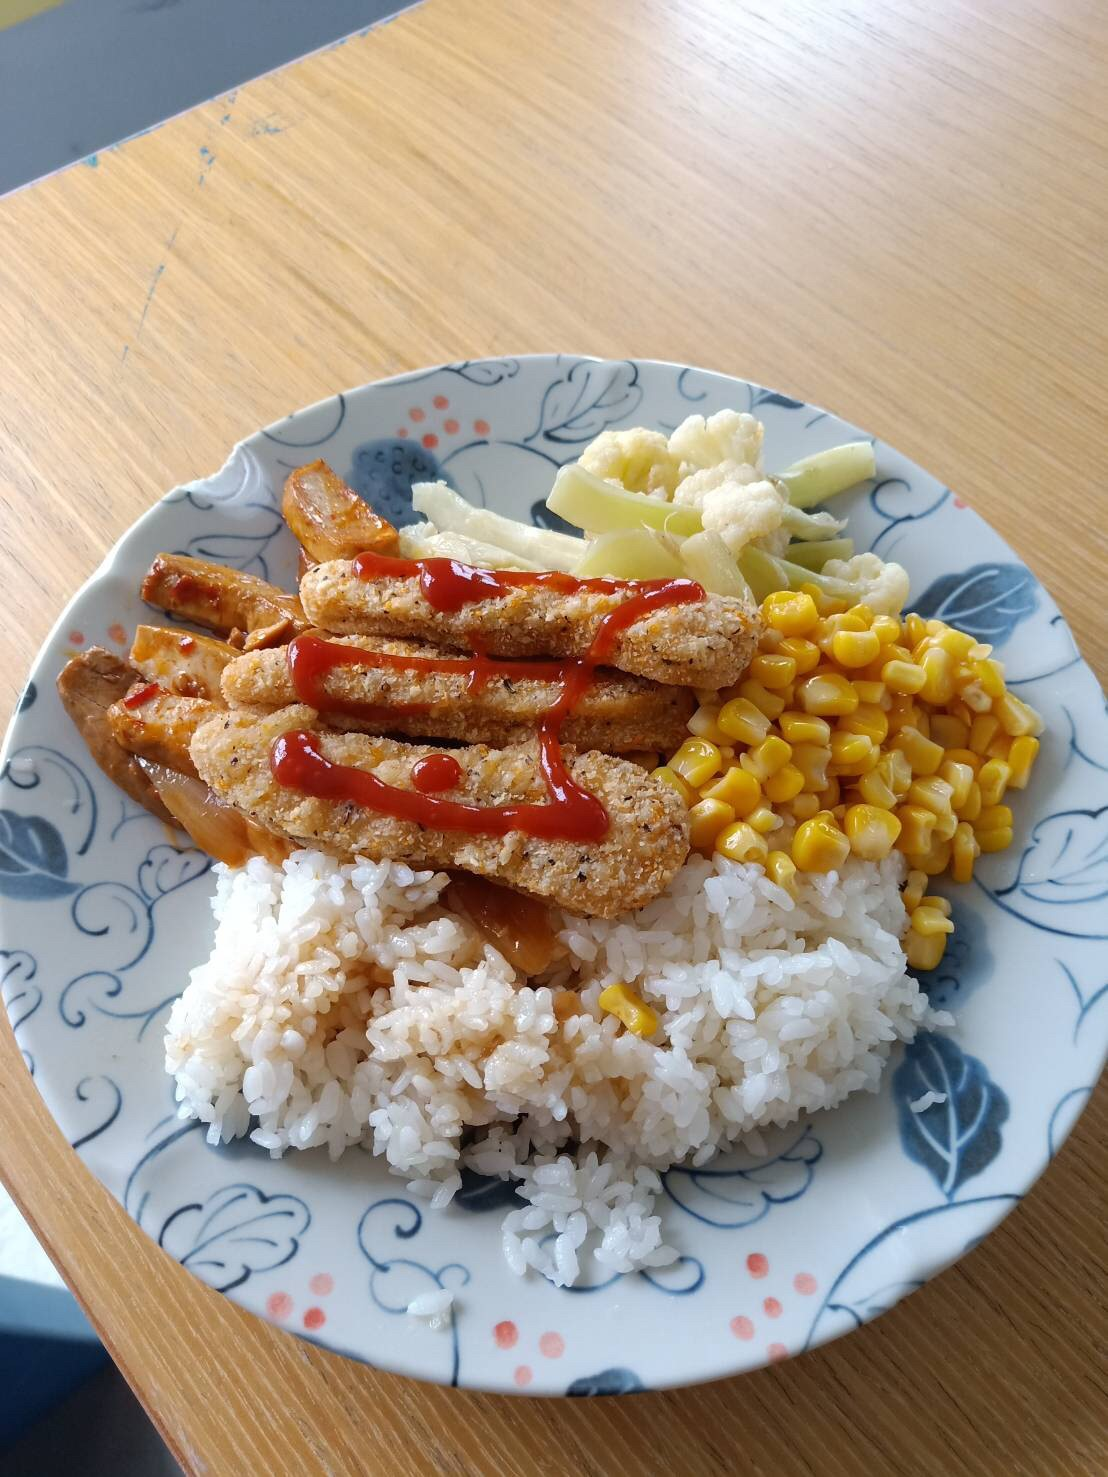rice: (163, 848, 933, 1271)
